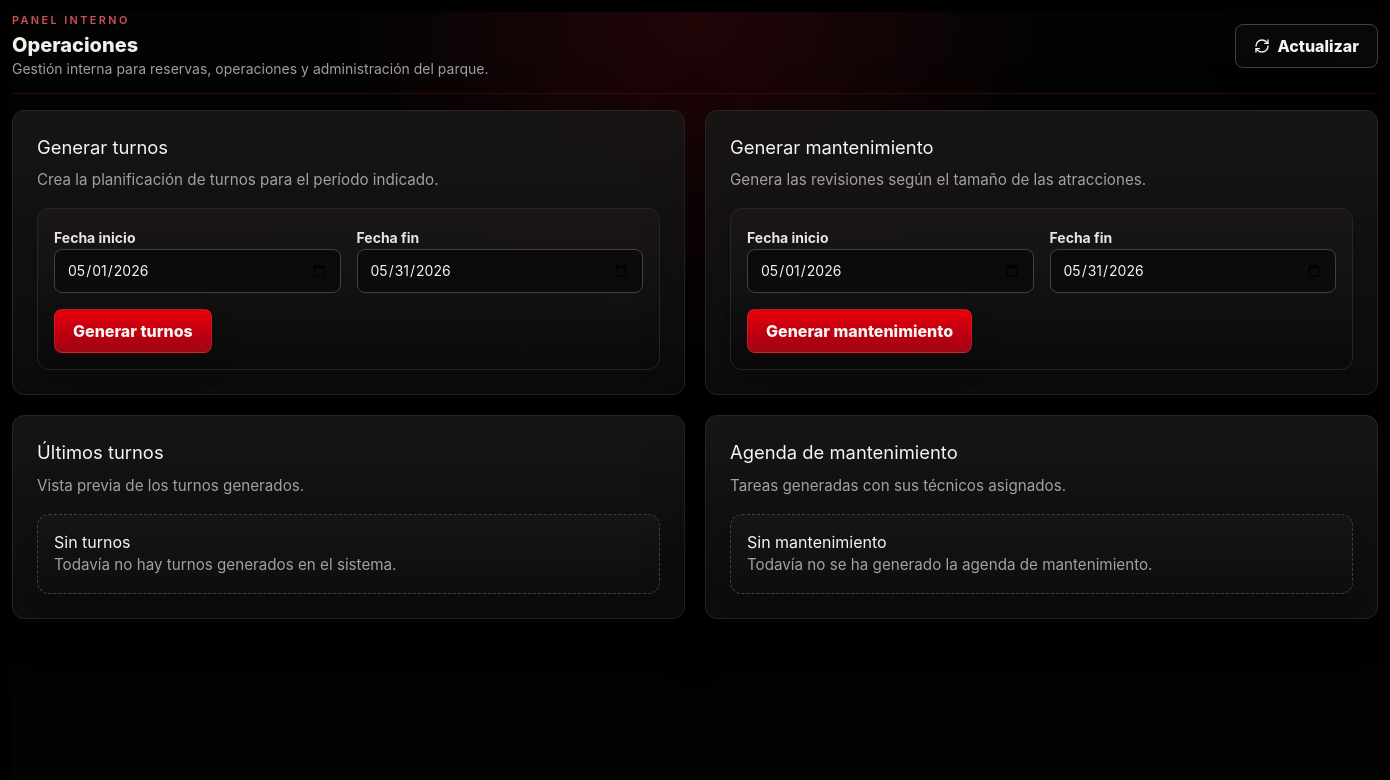
Test: DashboardPage › shows the translated shift generation error when the operation fails
Click the button "Generar turnos" at (133, 331), box [54,309,212,353]
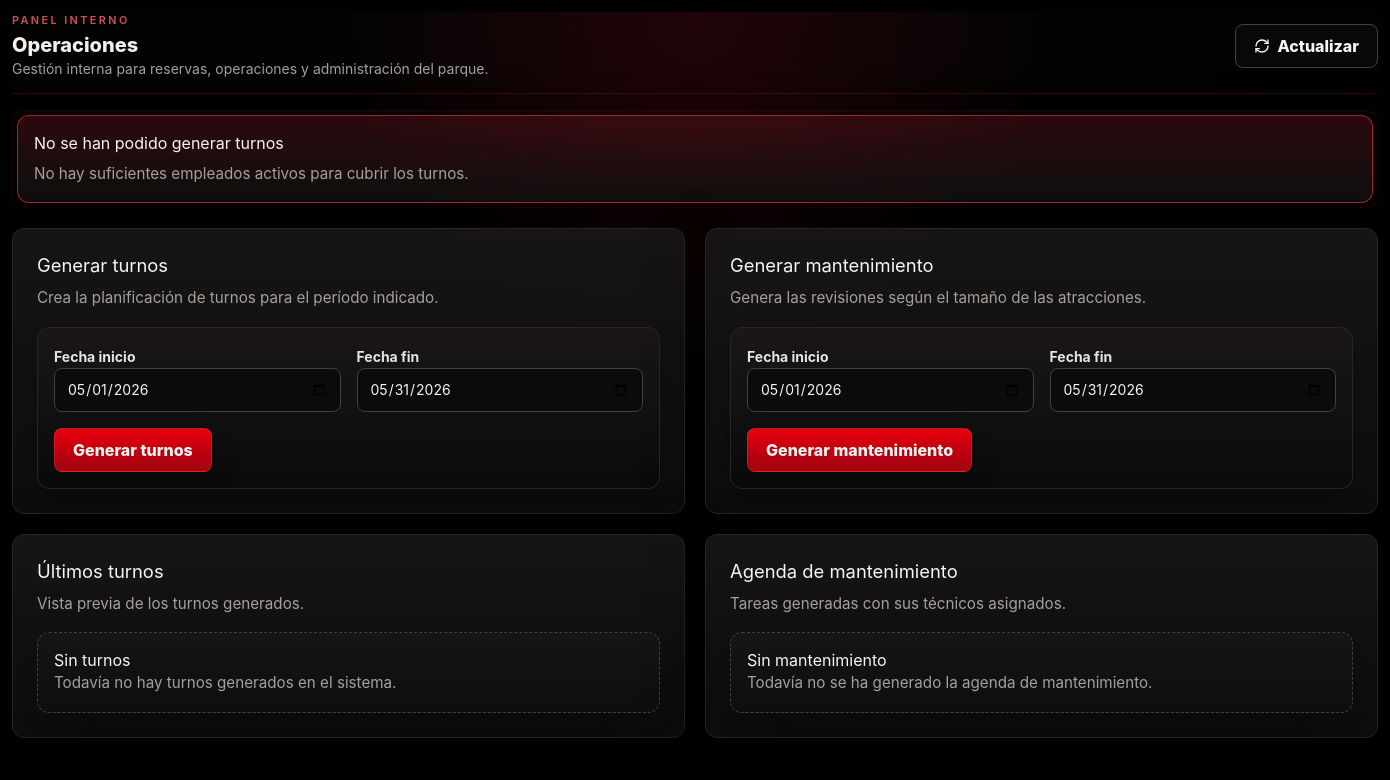
Result: the text "No hay suficientes empleados activos para cubrir los turnos." is shown at [34,164,469,183]
